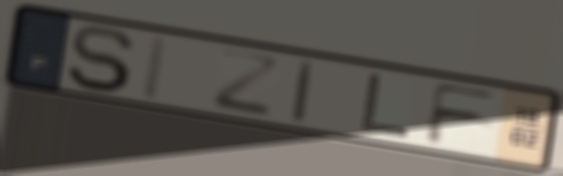F: (422, 80, 504, 147)
I: (135, 31, 174, 105), (288, 56, 319, 128)
L: (357, 70, 415, 140)
S: (63, 23, 140, 95)
Z: (208, 44, 285, 120)
